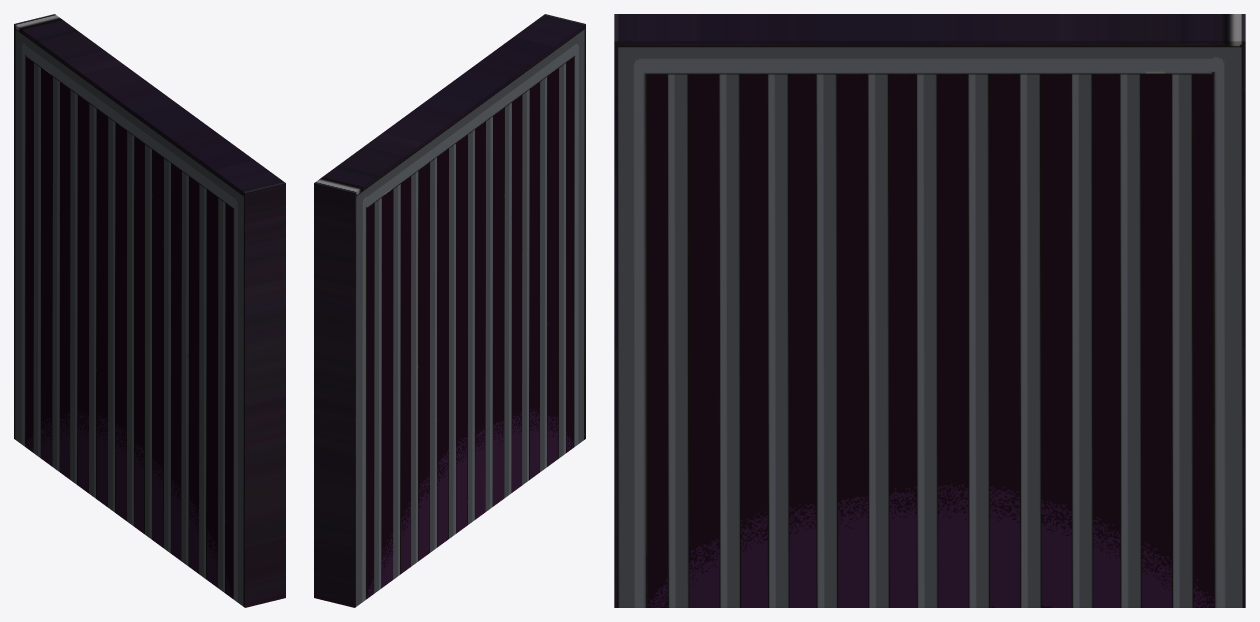
Rendered from ElevatorIDoor.fbx.
The picture shows the model from 3 angles, left to right: view 1: azimuth 30°, elevation 25°; view 2: azimuth 150°, elevation 25°; view 3: azimuth 270°, elevation 25°; orthographic projection. The views are drawn at different scales.
Visible parts, largest first — view 1: RPiece.006; view 2: RPiece.006; view 3: RPiece.006.
Part boxes in pixels (x1,y1,x2,y2): RPiece.006: [14, 14, 285, 607]; RPiece.006: [314, 14, 585, 607]; RPiece.006: [614, 14, 1245, 607].
Size of the model in its own units: 17.79 by 173 by 175.
